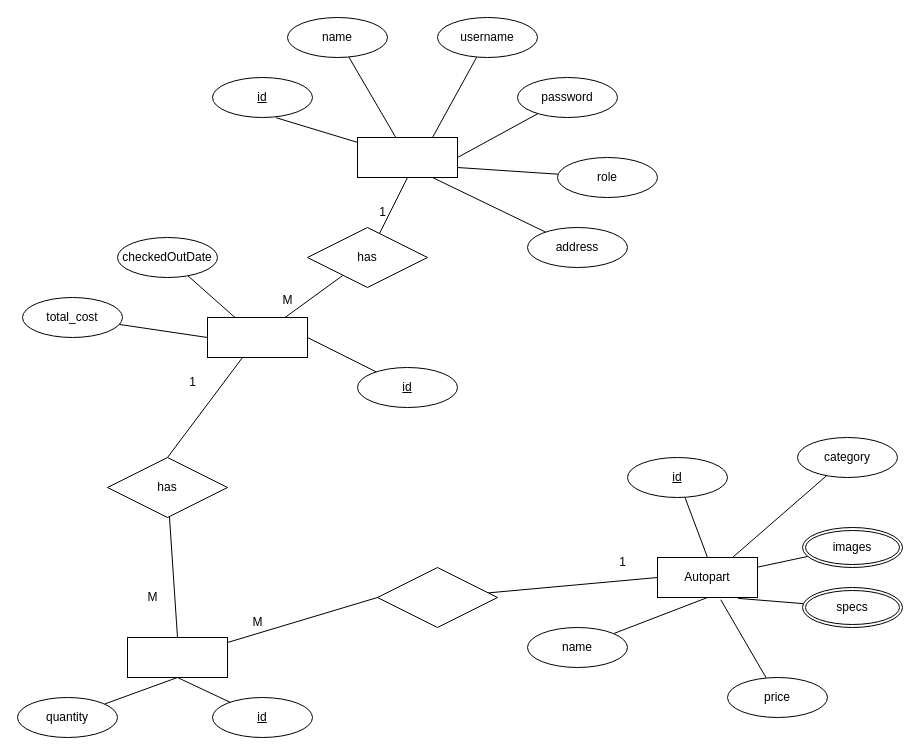
This 920x755 diagram has some shape labels left out. The box of each missing label's shape, as (x1, y1, x2, y2) in pixels:
associated with: (376, 566, 498, 628)
cart item: (126, 636, 228, 678)
Order: (206, 316, 308, 358)
User: (356, 136, 458, 178)
